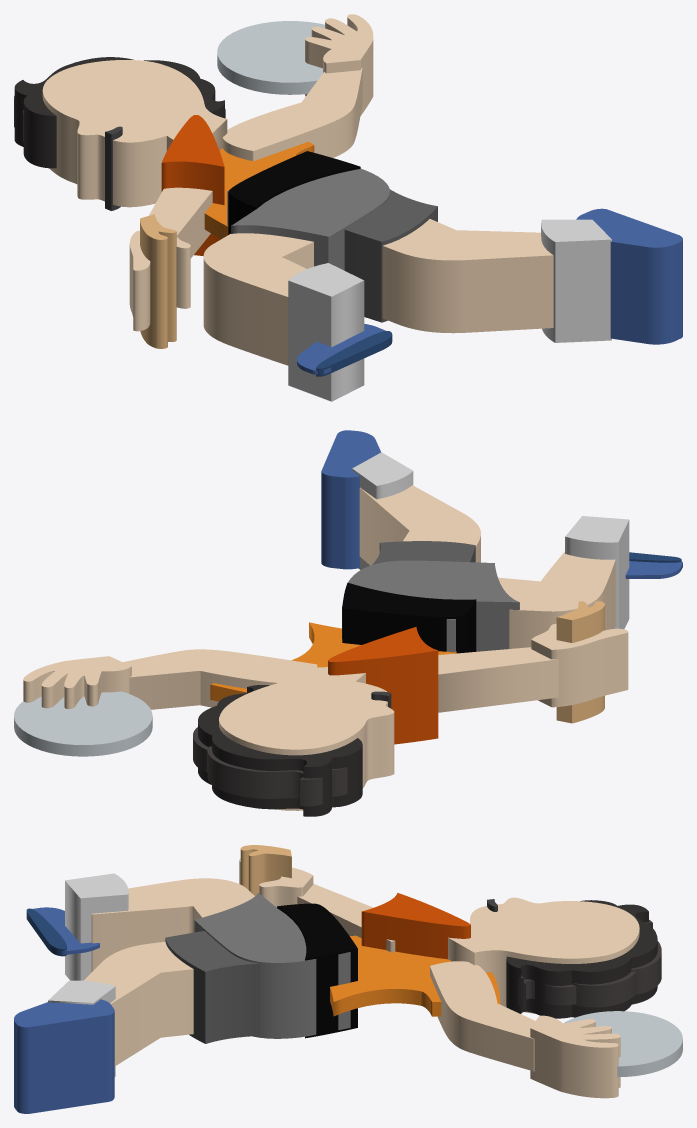
The model's file is emoji_u1f93e_1f3fb.glb.
3 views of the same model, one above another, from view 1: azimuth 30°, elevation 25°; view 2: azimuth 150°, elevation 25°; view 3: azimuth 270°, elevation 25° (orthographic). The views are drawn at different scales.
Visible parts, largest first — view 1: emoji_u1f93e_1f3fb; view 2: emoji_u1f93e_1f3fb; view 3: emoji_u1f93e_1f3fb.
Part boxes in pixels (x1,y1,x2,y2): emoji_u1f93e_1f3fb: (14,14,682,401); emoji_u1f93e_1f3fb: (14,430,682,816); emoji_u1f93e_1f3fb: (14,845,682,1113).
Bounding box in the file's own units: 0.0224 × 0.0054 × 0.0336.
